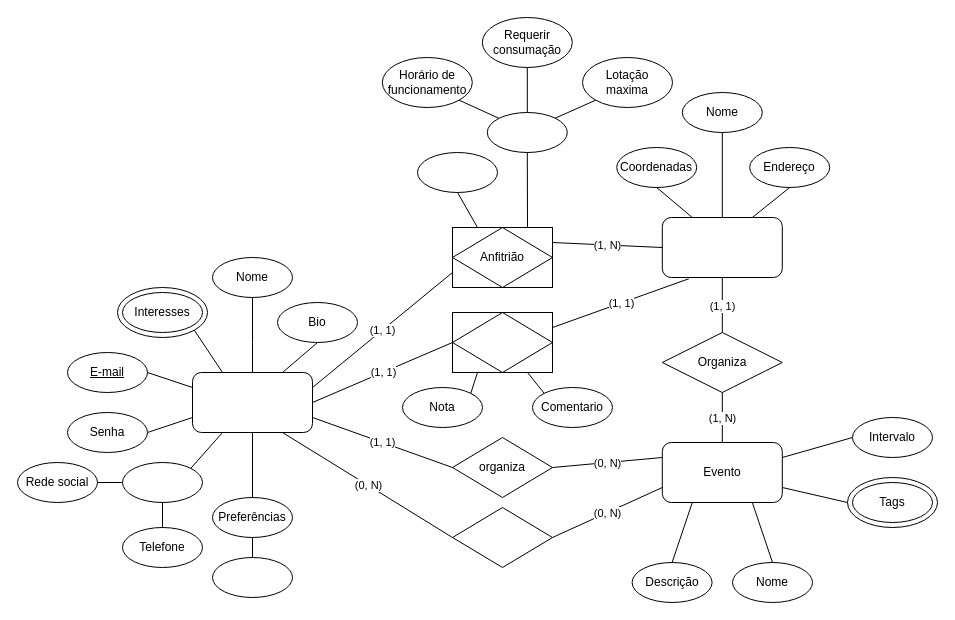
Some shapes in this 955 by 620 pixel diagram are drawn without their labels. The centre of each missing label's shape, as x and y in pixels:
Avaliação: (x=502, y=342)
Contato: (x=162, y=482)
Localidade: (x=721, y=247)
Mostrar contato: (x=252, y=577)
participa: (x=502, y=537)
Regras: (x=526, y=132)
Solicitações: (x=457, y=172)
Usuário: (x=252, y=402)
